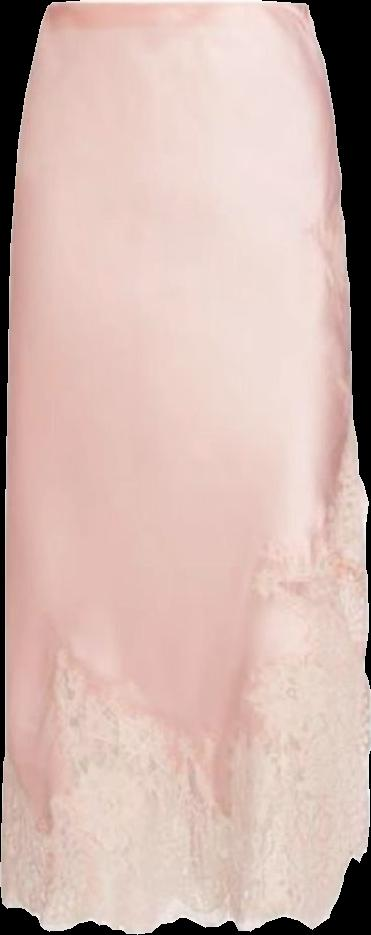Hemline: (0, 839, 370, 934)
Waistline: (49, 0, 305, 10)
